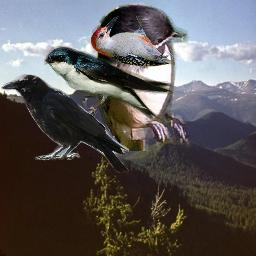Crow: (1, 74, 129, 173)
Swallow: (92, 0, 193, 151), (44, 46, 177, 125)
Woodpecker: (91, 16, 175, 67)
